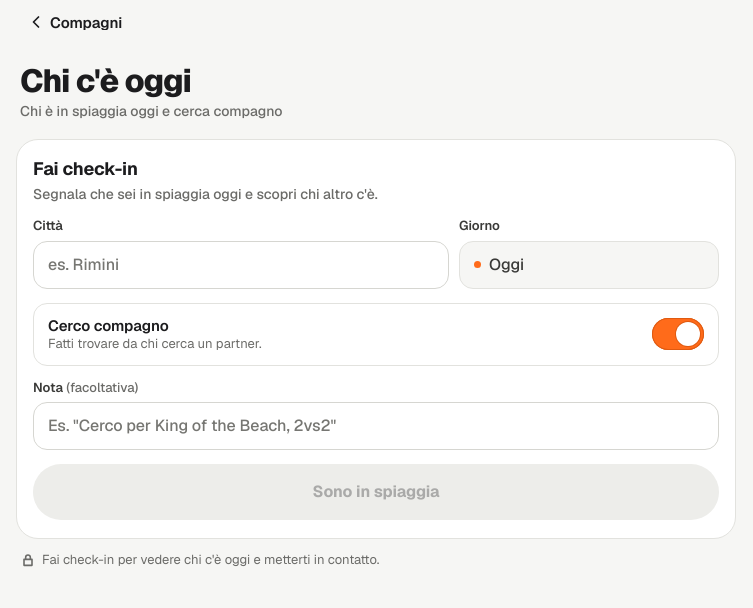
Test: ChiCeOggi — form di check-in (non in spiaggia) › il tocco sul pulsante disattivato porta al campo città e dice cosa manca
What coordinates should you click on to do the following:
click the button "Sono in spiaggia"
I would click on:
 (376, 492)
Its box is 33,464 -> 719,520.
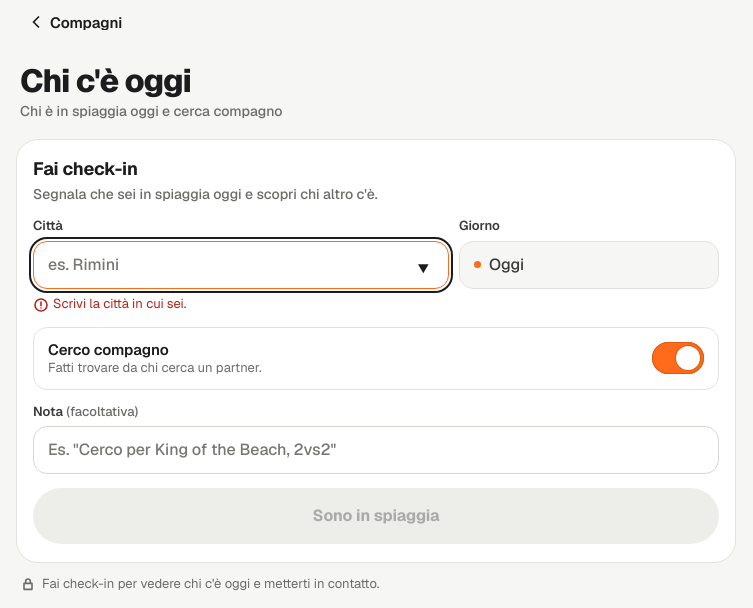
Expected: the message reads "Scrivi la città in cui sei.", 53,294 -> 186,312
